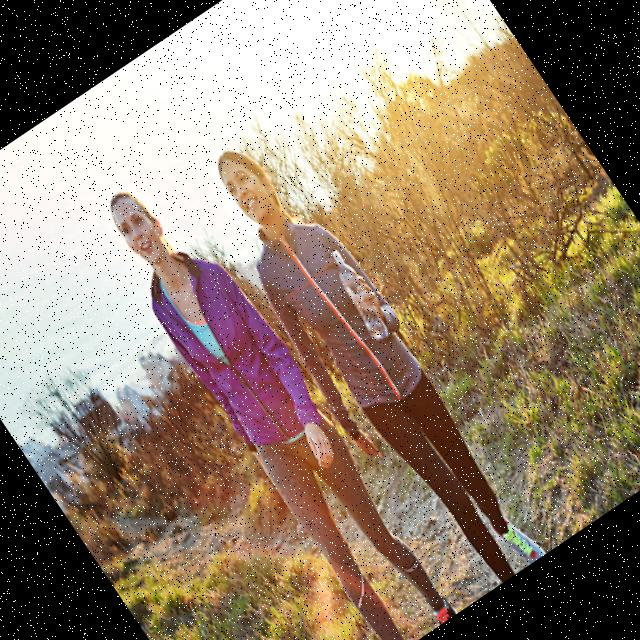Person: (178, 121, 556, 608), (85, 160, 463, 640)
